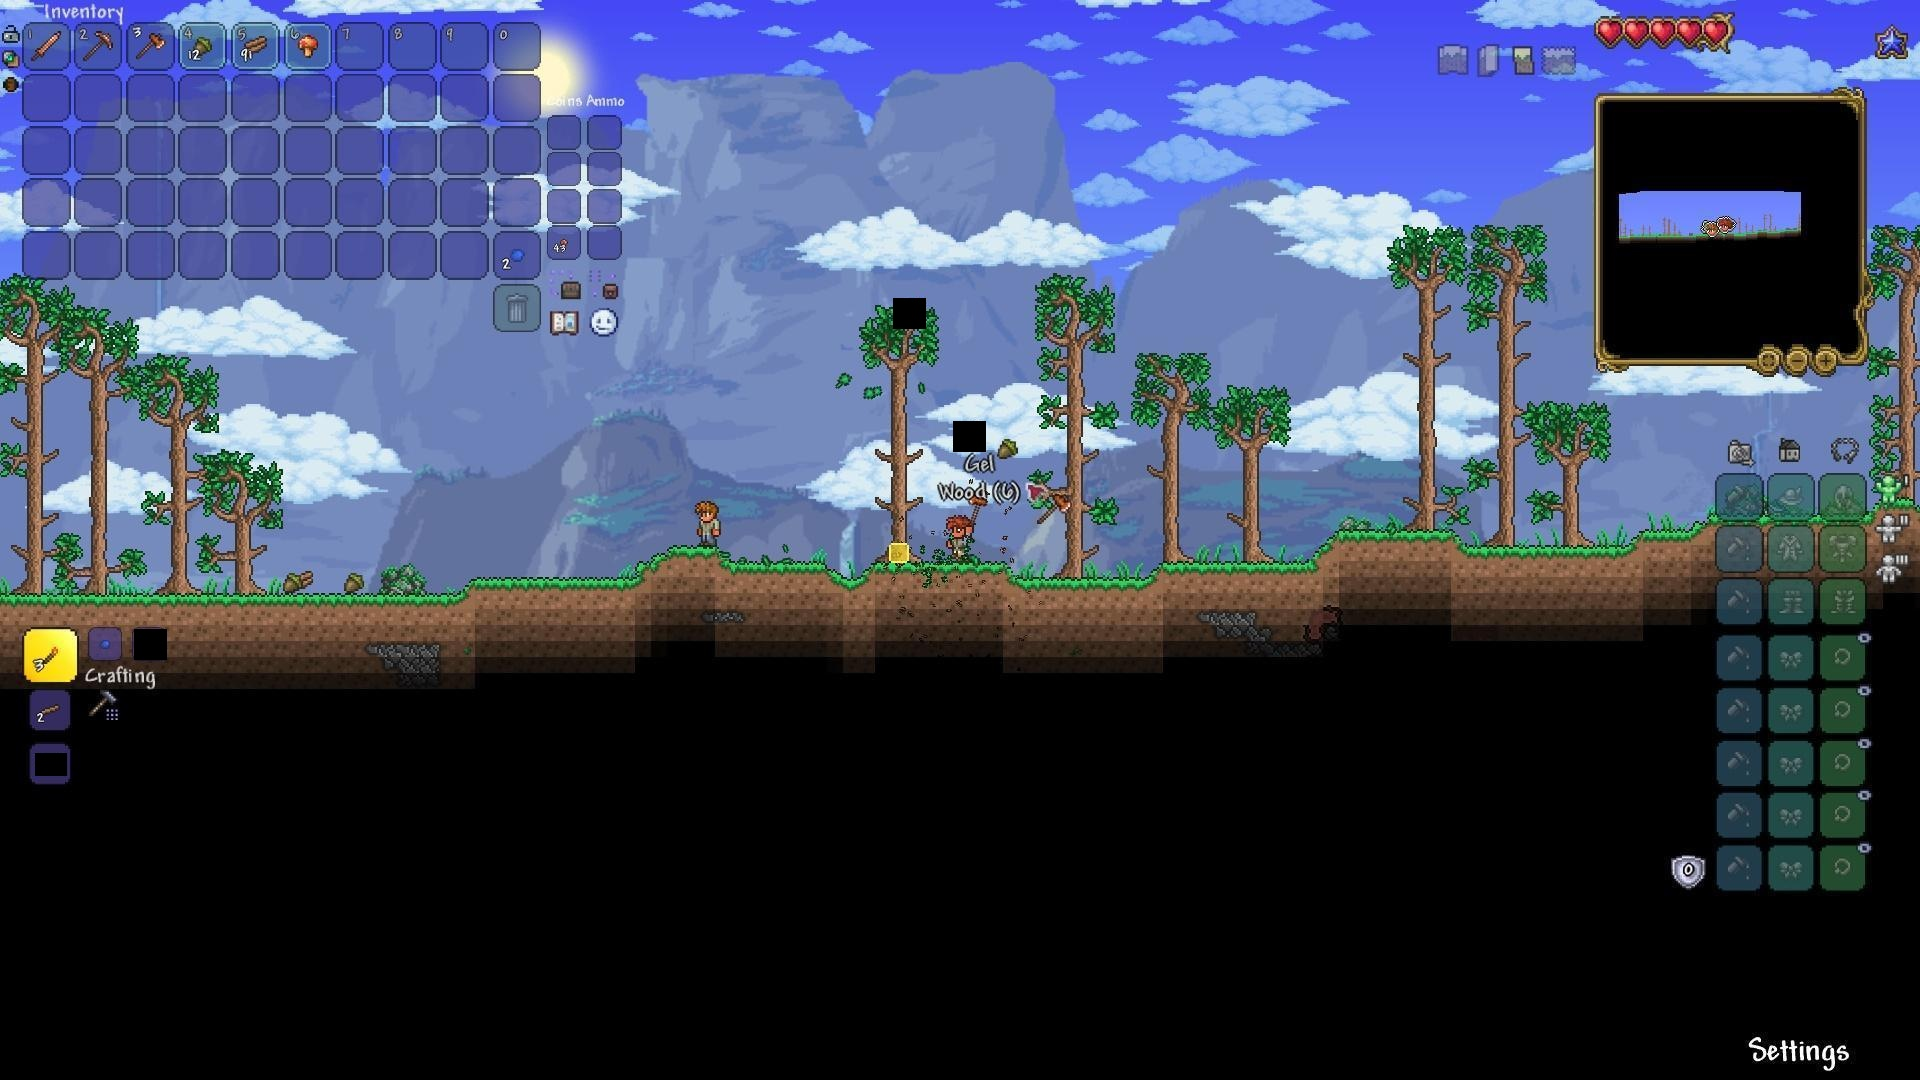wood: (240, 30, 272, 61), (295, 563, 316, 592)
